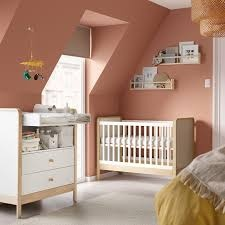crib: (97, 117, 193, 178)
